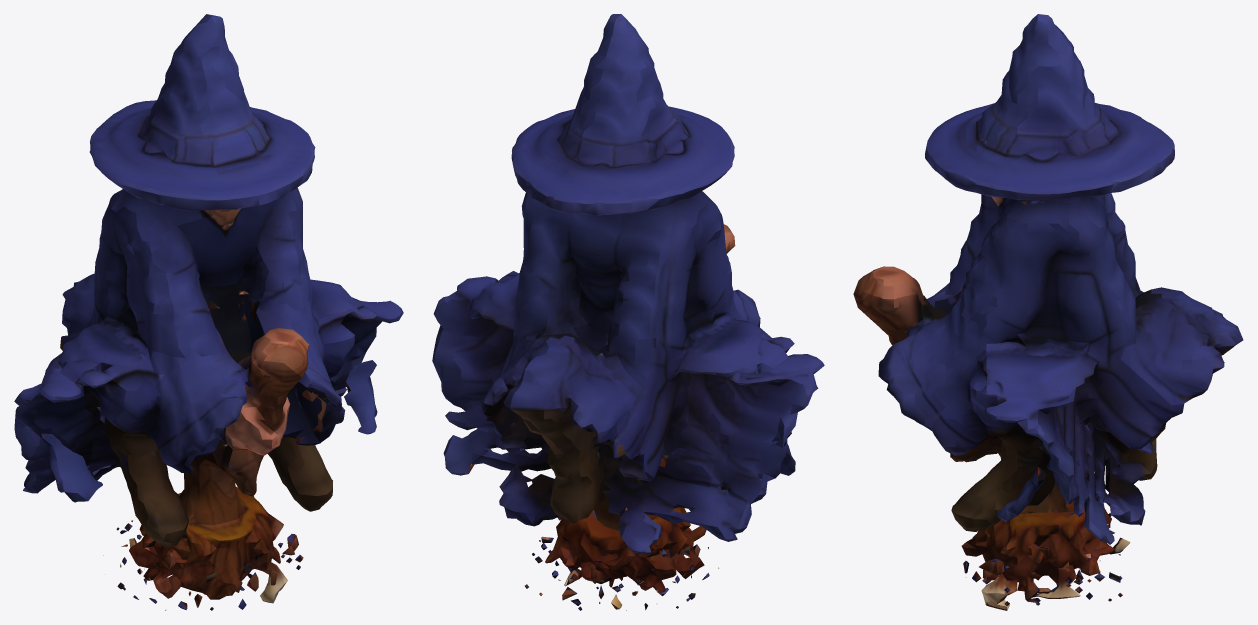
File: WizBroomRider.glb
3 renders of one model, left to right at view 1: azimuth 30°, elevation 25°; view 2: azimuth 150°, elevation 25°; view 3: azimuth 270°, elevation 25°, orthographic.
Visible parts, largest first — view 1: tmptd7h3s0w.ply; view 2: tmptd7h3s0w.ply; view 3: tmptd7h3s0w.ply.
Boxes of the visible parts, box(x1,y1,x2,y2) form: tmptd7h3s0w.ply: box(14, 14, 403, 610); tmptd7h3s0w.ply: box(432, 14, 824, 610); tmptd7h3s0w.ply: box(853, 14, 1243, 610).
Size of the model in its own units: 1.31 by 1.93 by 1.18.
Materials: 1 (1 with a texture image).
